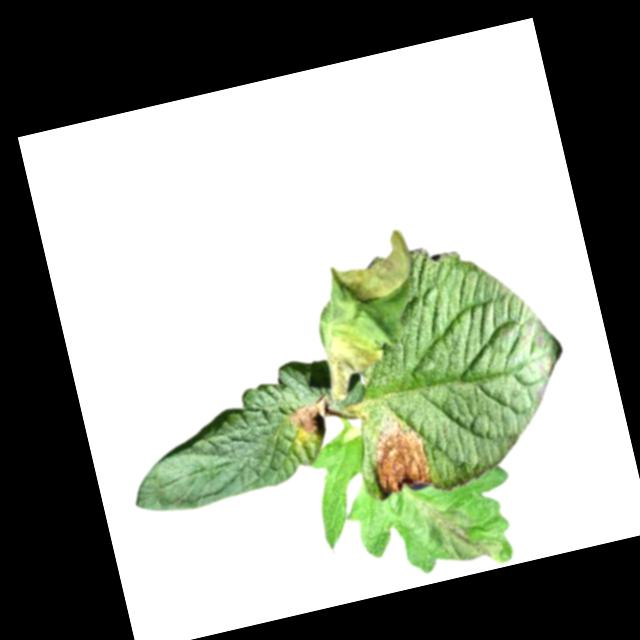Late_blight: (422, 486, 507, 579), (329, 226, 419, 309), (359, 411, 434, 501), (316, 317, 391, 404), (286, 393, 335, 440)
